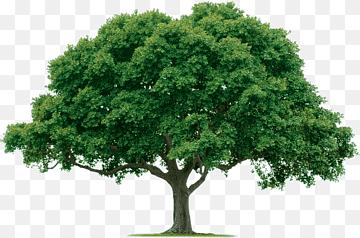tree: (6, 3, 359, 234)
